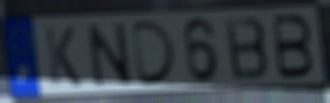6: (181, 15, 223, 87)
B: (222, 15, 272, 83), (271, 13, 316, 81)
D: (130, 18, 180, 88)
K: (42, 25, 84, 89)
N: (84, 19, 136, 90)
